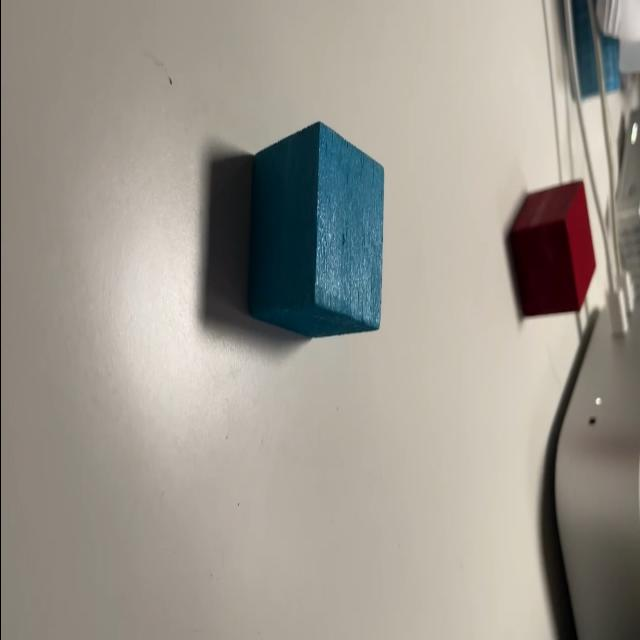blue_block: (234, 97, 390, 356)
red_block: (500, 167, 596, 330)
